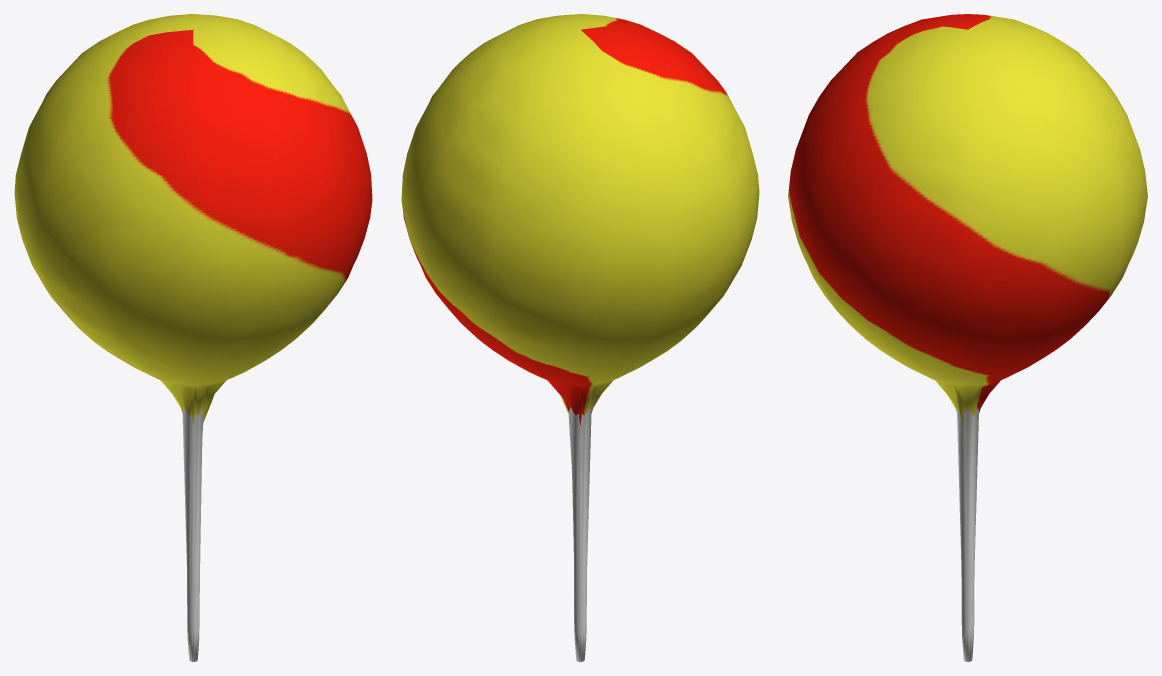
File: balloon.obj
3 views of the same model, side by side, from view 1: azimuth 30°, elevation 25°; view 2: azimuth 150°, elevation 25°; view 3: azimuth 270°, elevation 25° (orthographic).
Parts seen in each view (by area): view 1: ragdoll_balloonboy_bb_balloon1; view 2: ragdoll_balloonboy_bb_balloon1; view 3: ragdoll_balloonboy_bb_balloon1.
Part boxes in pixels (x1=…): ragdoll_balloonboy_bb_balloon1: x1=14, y1=14, x2=372, y2=661; ragdoll_balloonboy_bb_balloon1: x1=401, y1=14, x2=759, y2=661; ragdoll_balloonboy_bb_balloon1: x1=788, y1=14, x2=1147, y2=661.
Size of the model in its own units: 1.05 by 2.04 by 1.05.
1 material, 1 textured.
